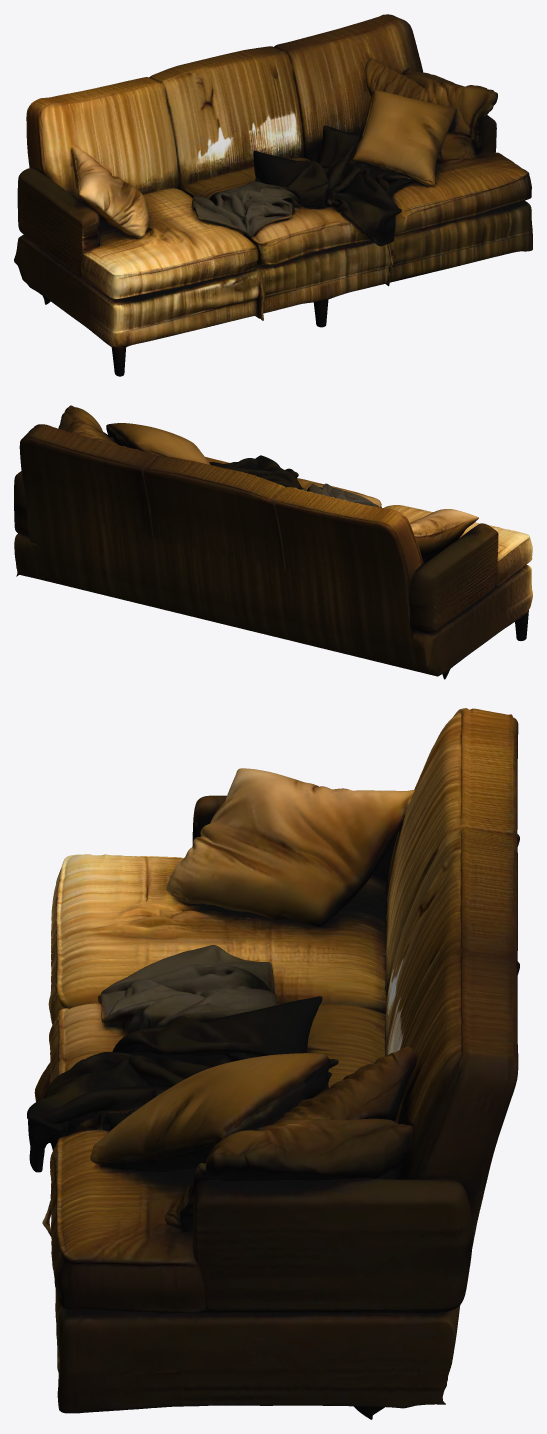
The model's file is sofa-transformed.glb.
3 views of the same model, one above another, from view 1: azimuth 30°, elevation 25°; view 2: azimuth 150°, elevation 25°; view 3: azimuth 270°, elevation 25° (orthographic). The views are drawn at different scales.
Parts seen in each view (by area): view 1: model; view 2: model; view 3: model.
Part boxes in pixels (x1=…): model: x1=14, y1=14, x2=532, y2=376; model: x1=14, y1=405, x2=532, y2=679; model: x1=27, y1=708, x2=519, y2=1419.
Bounding box in the file's own units: 1.83 × 0.7977 × 0.9223.
Materials: 1 (1 with a texture image).
